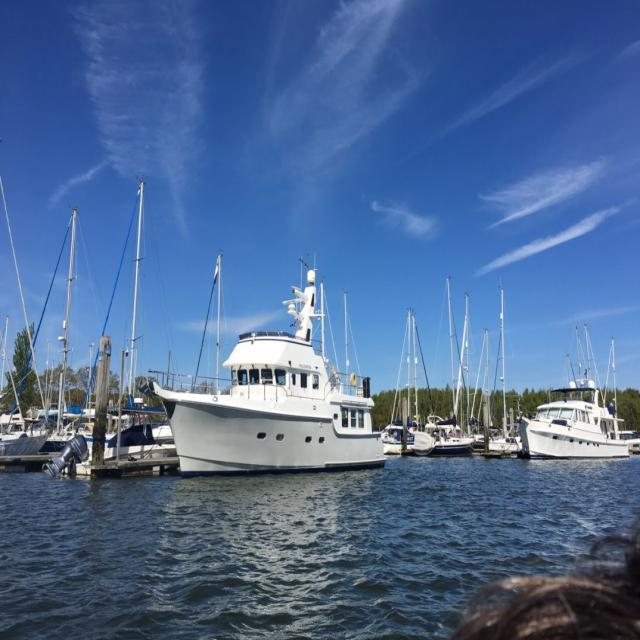houseboat: (162, 308, 398, 474), (516, 374, 640, 462)
